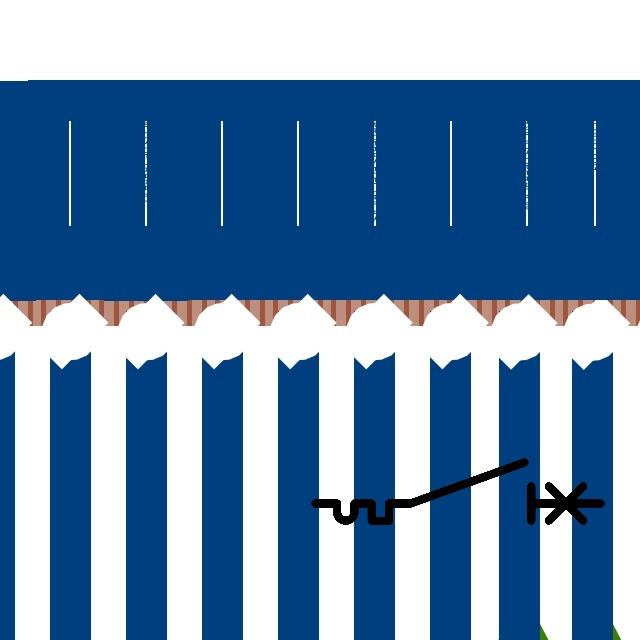interruptor_termomagnetico: (308, 455, 608, 528)
